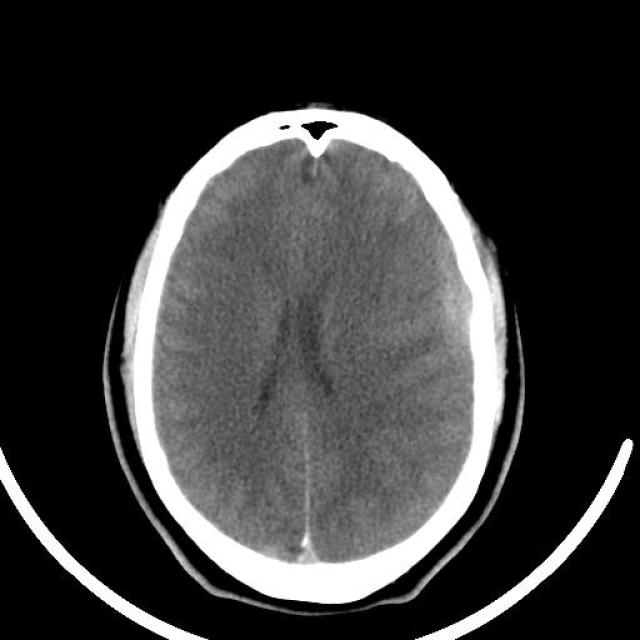Subarachnoid: (412, 225, 508, 420)
Subdural: (269, 436, 350, 589)
